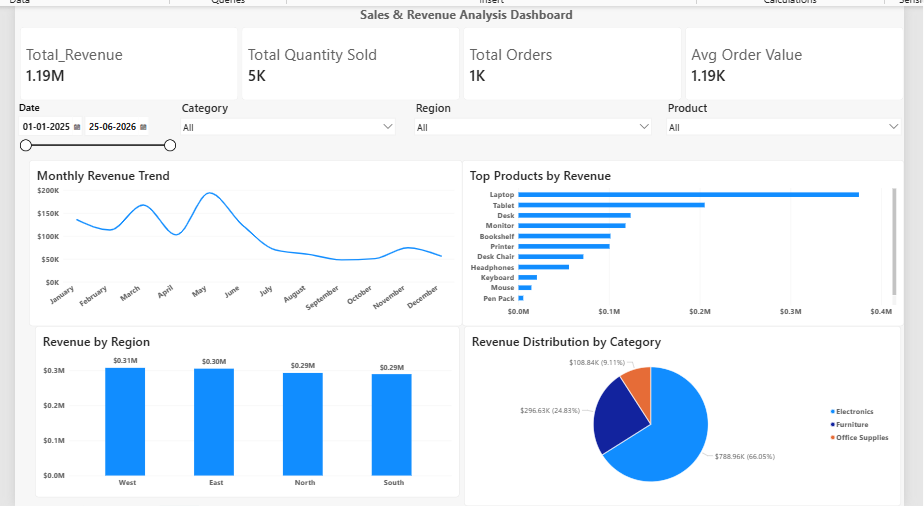

The page's visual inventory and layout, read from the dashboard file:
{"tool":"powerbi","page":{"name":"sales & revenue","canvas":[1920,1080],"ordinal":0},"visuals":[{"type":"cardVisual","fields":{"Data":["SalesData.Total_Revenue","SalesData.Total Quantity Sold","SalesData.Total Orders","SalesData.Avg Order Value"]},"box":[10.7,45.6,1909.3,158.2],"z":0},{"type":"lineChart","title":"Monthly Revenue Trend","fields":{"Category":["SalesData.Date.Variation.Date Hierarchy.Month","SalesData.Date.Variation.Date Hierarchy.Day"],"Y":["Sum(SalesData.Revenue)"]},"box":[29.5,332.5,935.9,359.3],"z":1000},{"type":"clusteredBarChart","title":"Top Products by Revenue","fields":{"Category":["SalesData.Product"],"Y":["Sum(SalesData.Revenue)"]},"box":[965.4,332.5,954.6,359.3],"z":2000},{"type":"pieChart","title":"Revenue Distribution by Category","fields":{"Category":["SalesData.Category"],"Y":["Sum(SalesData.Revenue)"]},"box":[970.7,691.8,943.9,388.8],"z":3000},{"type":"columnChart","title":"Revenue by Region","fields":{"Category":["SalesData.Region"],"Y":["Sum(SalesData.Revenue)"]},"box":[42.9,691.8,917.1,370.1],"z":4000},{"type":"textbox","box":[29.5,0,1890.5,88.5],"z":5000},{"type":"slicer","fields":{"Values":["SalesData.Date"]},"box":[0,203.8,351.3,177],"z":5001},{"type":"slicer","fields":{"Values":["SalesData.Category"]},"box":[351.3,203.8,474.6,144.8],"z":5002},{"type":"slicer","fields":{"Values":["SalesData.Region"]},"box":[858.1,203.8,522.9,128.7],"z":5003},{"type":"slicer","fields":{"Values":["SalesData.Product"]},"box":[1402.5,203.8,517.5,123.4],"z":5004}]}

Visuals, with their boxes on the page's 1920x1080 design canvas (x1, y1, x2, y2). These are canvas units, not pixel positions in the 924x507 screenshot, which may show the page scaled, cropped or inside an application window:
cardVisual - SalesData.Total_Revenue x SalesData.Total Quantity Sold: left=11, top=46, right=1920, bottom=204
"Monthly Revenue Trend" lineChart: left=30, top=332, right=965, bottom=692
"Top Products by Revenue" clusteredBarChart: left=965, top=332, right=1920, bottom=692
"Revenue Distribution by Category" pieChart: left=971, top=692, right=1915, bottom=1081
"Revenue by Region" columnChart: left=43, top=692, right=960, bottom=1062
textbox: left=30, top=0, right=1920, bottom=88
slicer - SalesData.Date: left=0, top=204, right=351, bottom=381
slicer - SalesData.Category: left=351, top=204, right=826, bottom=349
slicer - SalesData.Region: left=858, top=204, right=1381, bottom=332
slicer - SalesData.Product: left=1402, top=204, right=1920, bottom=327
